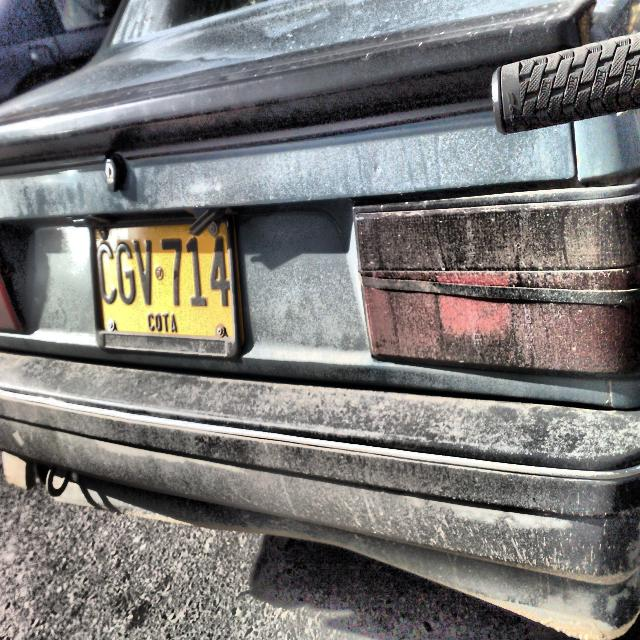plate: (93, 223, 234, 338)
